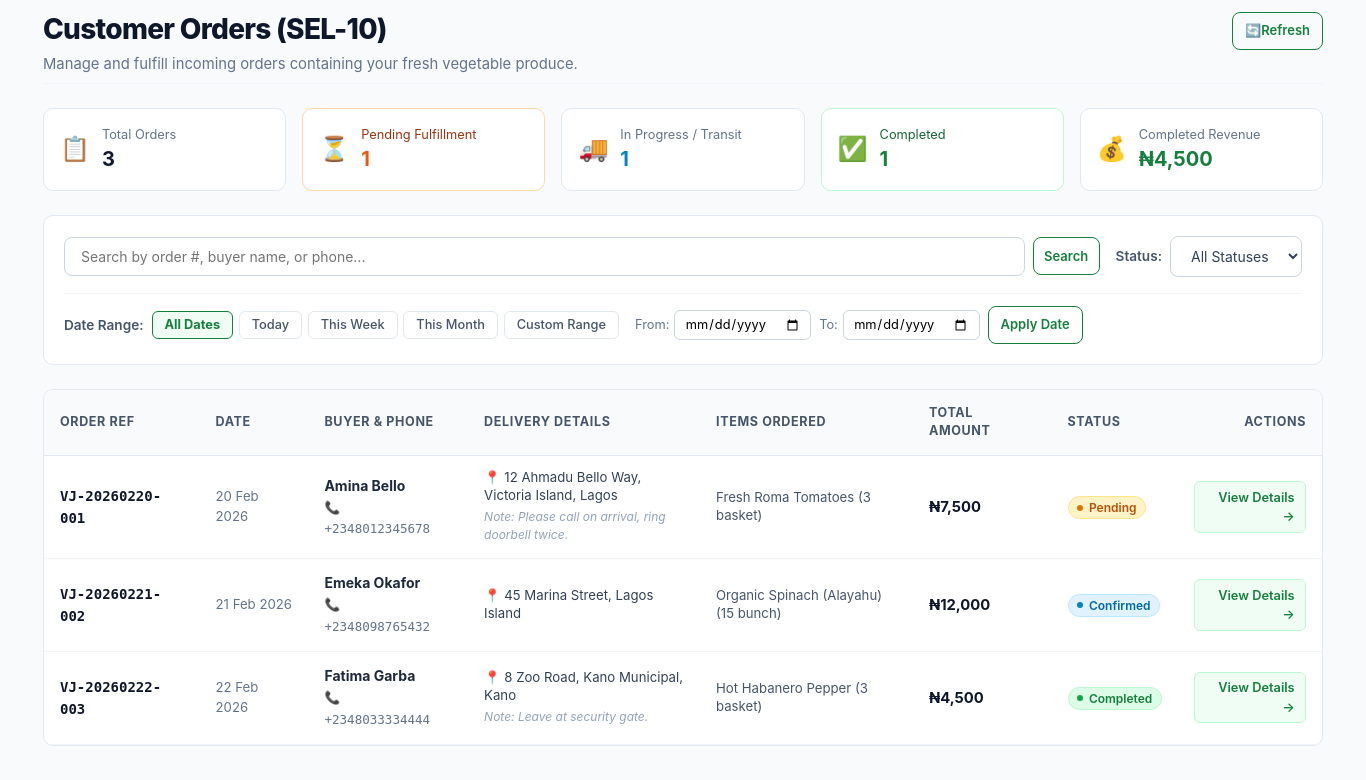
Test: FE-090 / SEL-10: Seller Orders List › 4. Status Filtering (SEL-10, Figma Section 13) › filters orders by selected status dropdown
Select "Pending" in the dropdown with test id "seller-orders-status-filter": x=1236, y=256 1170,236 -> 1302,277
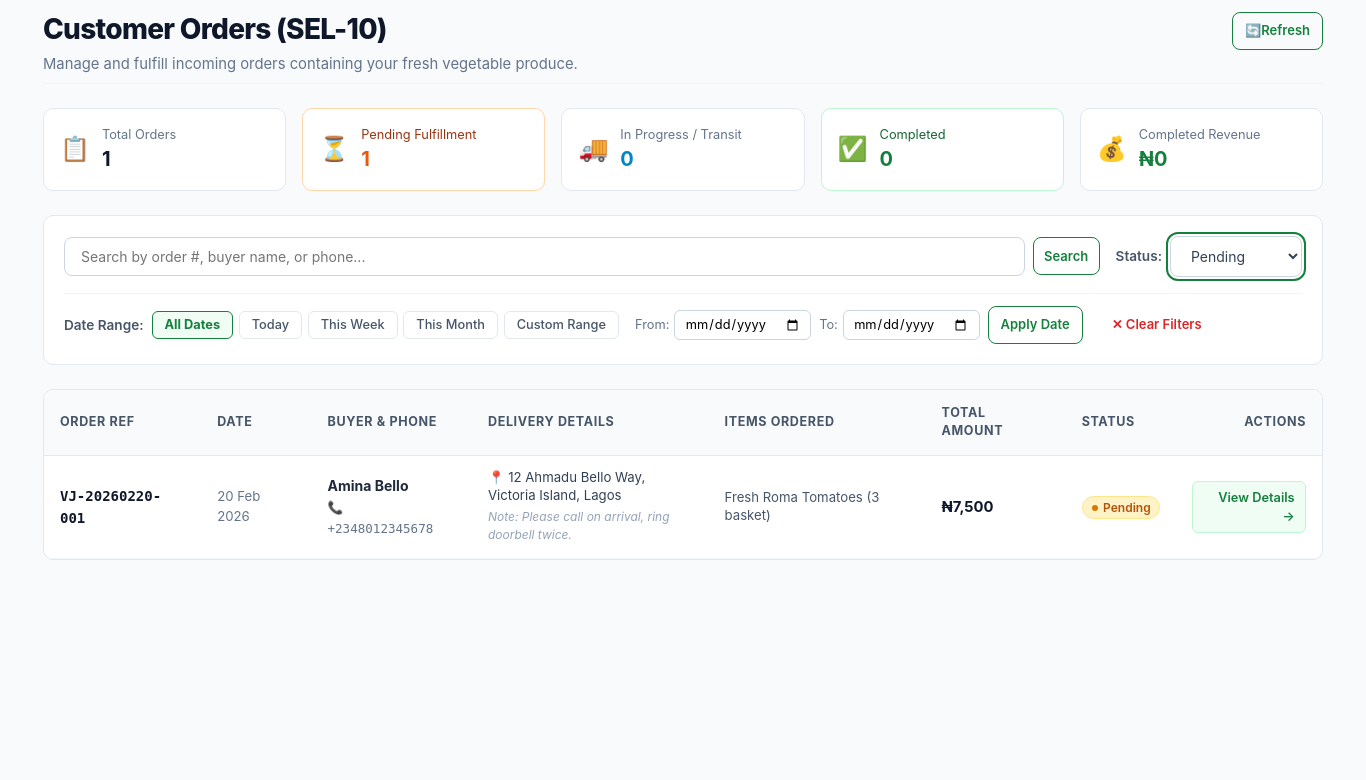
Expected: the row with test id "seller-order-row-101" is shown, 44,455 -> 1322,558
Expected: the row with test id "seller-order-row-102" is gone
Expected: the row with test id "seller-order-row-103" is gone
